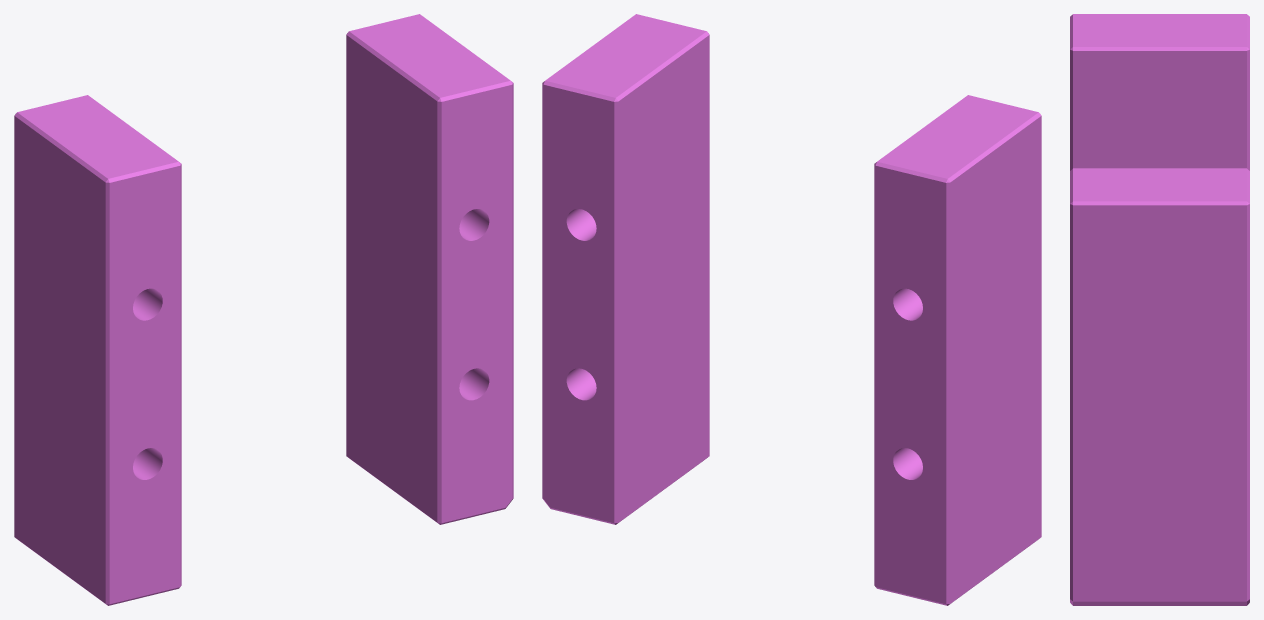
File: bearer.glb
3 renders of one model, left to right at view 1: azimuth 30°, elevation 25°; view 2: azimuth 150°, elevation 25°; view 3: azimuth 270°, elevation 25°, orthographic. The views are drawn at different scales.
Visible parts, largest first — view 1: Button_cl_plate_043, Button_cr_plate_037; view 2: Button_cl_plate_043, Button_cr_plate_037; view 3: Button_cr_plate_037, Button_cl_plate_043.
Boxes of the visible parts, x1,y1,x2,y2 form: Button_cl_plate_043: (14, 95, 181, 605); Button_cr_plate_037: (346, 14, 513, 524); Button_cl_plate_043: (874, 95, 1041, 605); Button_cr_plate_037: (542, 14, 709, 524); Button_cr_plate_037: (1070, 168, 1249, 605); Button_cl_plate_043: (1070, 14, 1249, 170).
Size of the model in its own units: 0.15 by 0.15 by 0.06.
